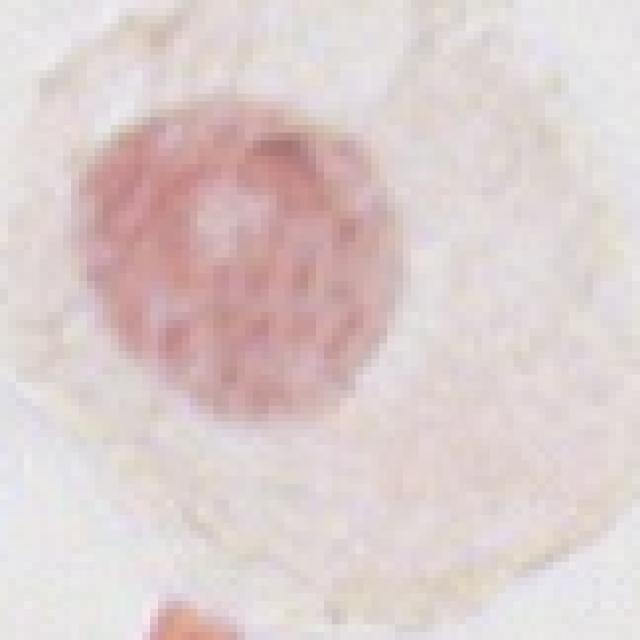nucleus: (21, 41, 461, 467)
